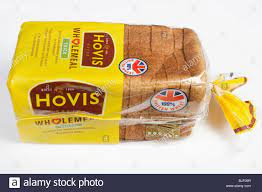bread: (7, 13, 256, 154)
